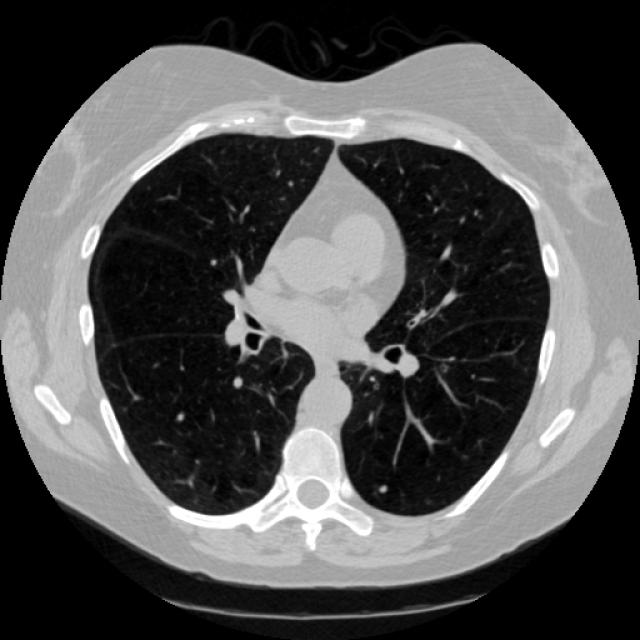nodule: (372, 479, 392, 499)
